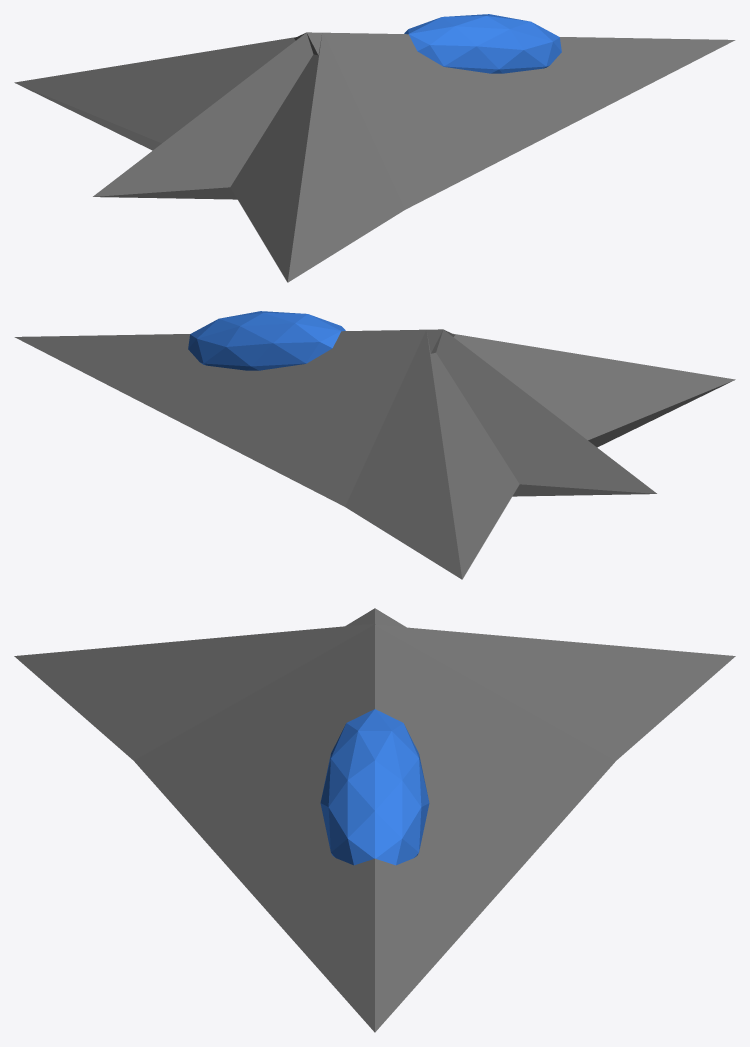
Rendered from shipmodel.fbx.
3 renders of one model, top to bottom at view 1: azimuth 30°, elevation 25°; view 2: azimuth 150°, elevation 25°; view 3: azimuth 270°, elevation 25°, orthographic. The views are drawn at different scales.
Visible parts, largest first — view 1: Cone, Cone.001, Cone.002, Cone.003, Icosphere; view 2: Cone, Cone.002, Cone.001, Cone.003, Icosphere; view 3: Cone, Cone.001, Cone.002, Icosphere.
Boxes of the visible parts, x1,y1,x2,y2 form: Cone: (294, 32, 735, 209); Cone.001: (230, 33, 404, 282); Cone.002: (14, 37, 296, 150); Cone.003: (93, 32, 313, 199); Icosphere: (404, 14, 561, 73); Cone: (14, 329, 454, 506); Cone.002: (345, 330, 519, 579); Cone.001: (453, 333, 735, 447); Cone.003: (436, 329, 656, 496); Icosphere: (188, 311, 345, 370); Cone: (134, 608, 615, 1032); Cone.001: (14, 623, 373, 760); Cone.002: (375, 624, 735, 760); Icosphere: (320, 709, 429, 865).
Bounding box in the file's own units: 265 × 360 × 120.
